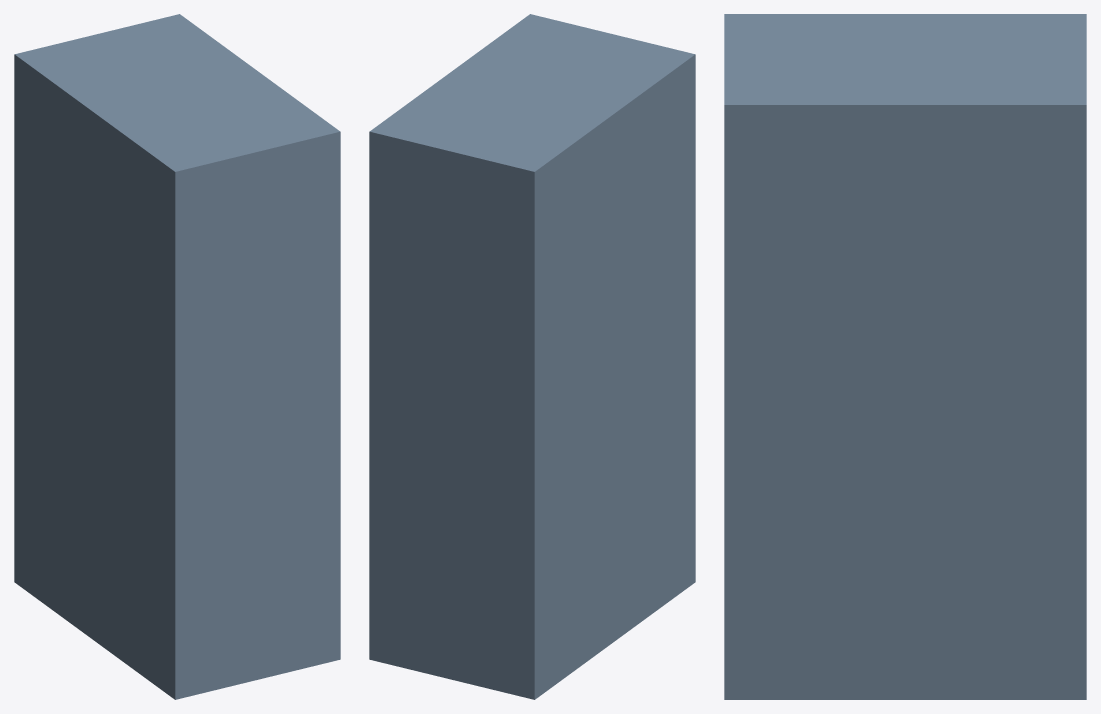
Rendered from livro_2.glb.
3 renders of one model, left to right at view 1: azimuth 30°, elevation 25°; view 2: azimuth 150°, elevation 25°; view 3: azimuth 270°, elevation 25°, orthographic. The views are drawn at different scales.
Visible parts, largest first — view 1: Livro; view 2: Livro; view 3: Livro.
Boxes of the visible parts, <box> form: Livro: <box>14,14,340,699</box>; Livro: <box>369,14,695,699</box>; Livro: <box>724,14,1086,699</box>.
Size of the model in its own units: 0.19 by 0.58 by 0.32.
